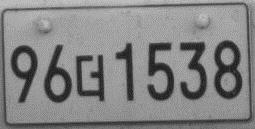1: (110, 40, 142, 103)
3: (178, 41, 208, 100)
5: (145, 41, 175, 100)
6: (42, 44, 73, 103)
8: (213, 39, 244, 99)
9: (10, 44, 39, 105)
더: (73, 53, 106, 103)
